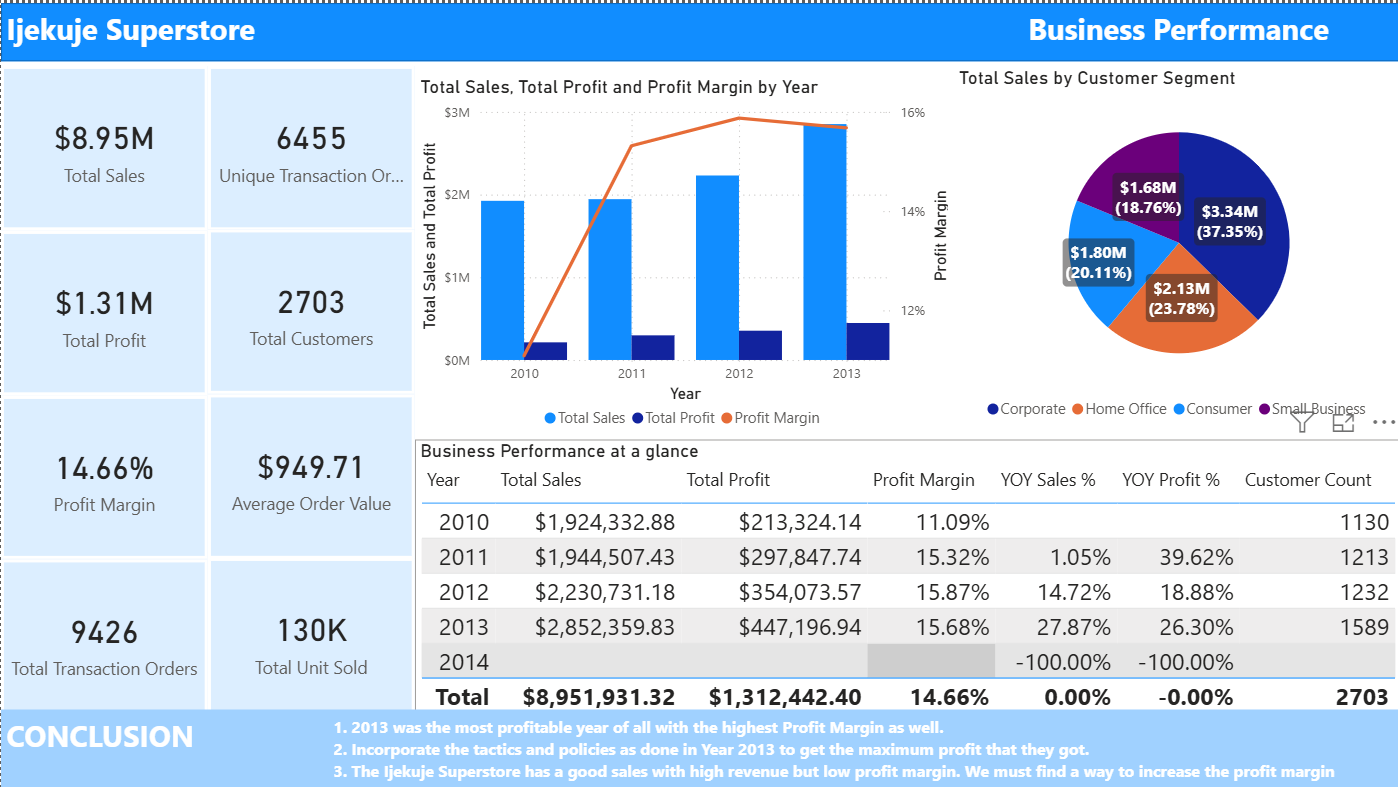

What the dashboard file says about the page in this screenshot:
{"tool":"powerbi","page":{"name":"Business Performance","canvas":[1280,720],"ordinal":0},"visuals":[{"type":"card","fields":{"Values":["Dax Measures.Total Sales"]},"box":[0,58.4,188.7,149.8],"z":0,"group":"g2"},{"type":"lineClusteredColumnComboChart","fields":{"Category":["Dim Date.Date.Variation.Date Hierarchy.Year"],"Y":["Dax Measures.Total Sales","Dax Measures.Total Profit"],"Y2":["Dax Measures.Profit Margin"]},"box":[377.4,66.1,491.9,332.3],"z":0},{"type":"card","fields":{"Values":["Dax Measures.Total Profit"]},"box":[0,208.3,188.7,149.8],"z":1000,"group":"g2"},{"type":"tableEx","title":"Business Performance at a glance","fields":{"Values":["Dim Date.Date.Variation.Date Hierarchy.Year","Dax Measures.Total Sales","Dax Measures.Total Profit","Dax Measures.Profit Margin","Dax Measures.YOY Sales %","Dax Measures.YOY Profit %","Dax Measures.Customer Count"]},"box":[377.4,398.4,903.2,259.7],"z":1000},{"type":"group","id":"g1","title":"Group 1","box":[0,57.8,377.4,600],"z":2000},{"type":"card","fields":{"Values":["Dax Measures.Profit Margin"]},"box":[0,358.8,188.7,148.4],"z":2000,"group":"g2"},{"type":"shape","box":[0,0,1280.6,53.2],"z":3000},{"type":"card","fields":{"Values":["Dax Measures.Total Orders"]},"box":[0,508,188.7,149.8],"z":3000,"group":"g2"},{"type":"textbox","box":[869.4,0,411.3,66.1],"z":4000},{"type":"card","fields":{"Values":["Dax Measures.Unique Transaction Orders"]},"box":[188.7,57.8,188.7,149.8],"z":4000,"group":"g2"},{"type":"textbox","box":[0,0,398.4,66.1],"z":5000},{"type":"card","fields":{"Values":["Dax Measures.Total Customers"]},"box":[188.7,207.6,188.7,149.8],"z":5000,"group":"g2"},{"type":"pieChart","fields":{"Category":["Dim Customer.Customer Segment"],"Y":["Dax Measures.Total Sales"]},"box":[869.4,58.1,411.3,332.3],"z":6000},{"type":"card","fields":{"Values":["Dax Measures.Average Order Value"]},"box":[188.7,357.5,188.7,149.8],"z":6000,"group":"g2"},{"type":"card","fields":{"Values":["Dax Measures.Total Unit Sold"]},"box":[188.7,507.3,188.7,149.8],"z":7000,"group":"g2"},{"type":"textbox","box":[0,645.2,1280.6,74.2],"z":7000},{"type":"group","id":"g2","title":"Group 2","box":[0,57.8,377.4,600],"z":7002,"group":"g1"},{"type":"textbox","box":[298.4,645.2,982.3,74.2],"z":8000}]}

Visuals, with their boxes in screenshot pixels (x1, y1, x2, y2), scaled from the page's 1280x720 canvas onto the 1398x787 screenshot:
card - Dax Measures.Total Sales: bbox=[0, 64, 206, 228]
lineClusteredColumnComboChart - Dim Date.Date.Variation.Date Hierarchy.Year x Dax Measures.Total Sales: bbox=[412, 72, 949, 435]
card - Dax Measures.Total Profit: bbox=[0, 228, 206, 391]
"Business Performance at a glance" tableEx: bbox=[412, 435, 1397, 719]
"Group 1" group: bbox=[0, 63, 412, 719]
card - Dax Measures.Profit Margin: bbox=[0, 392, 206, 554]
shape: bbox=[0, 0, 1397, 58]
card - Dax Measures.Total Orders: bbox=[0, 555, 206, 719]
textbox: bbox=[950, 0, 1397, 72]
card - Dax Measures.Unique Transaction Orders: bbox=[206, 63, 412, 227]
textbox: bbox=[0, 0, 435, 72]
card - Dax Measures.Total Customers: bbox=[206, 227, 412, 391]
pieChart - Dim Customer.Customer Segment x Dax Measures.Total Sales: bbox=[950, 64, 1397, 427]
card - Dax Measures.Average Order Value: bbox=[206, 391, 412, 555]
card - Dax Measures.Total Unit Sold: bbox=[206, 555, 412, 718]
textbox: bbox=[0, 705, 1397, 786]
"Group 2" group: bbox=[0, 63, 412, 719]
textbox: bbox=[326, 705, 1397, 786]
